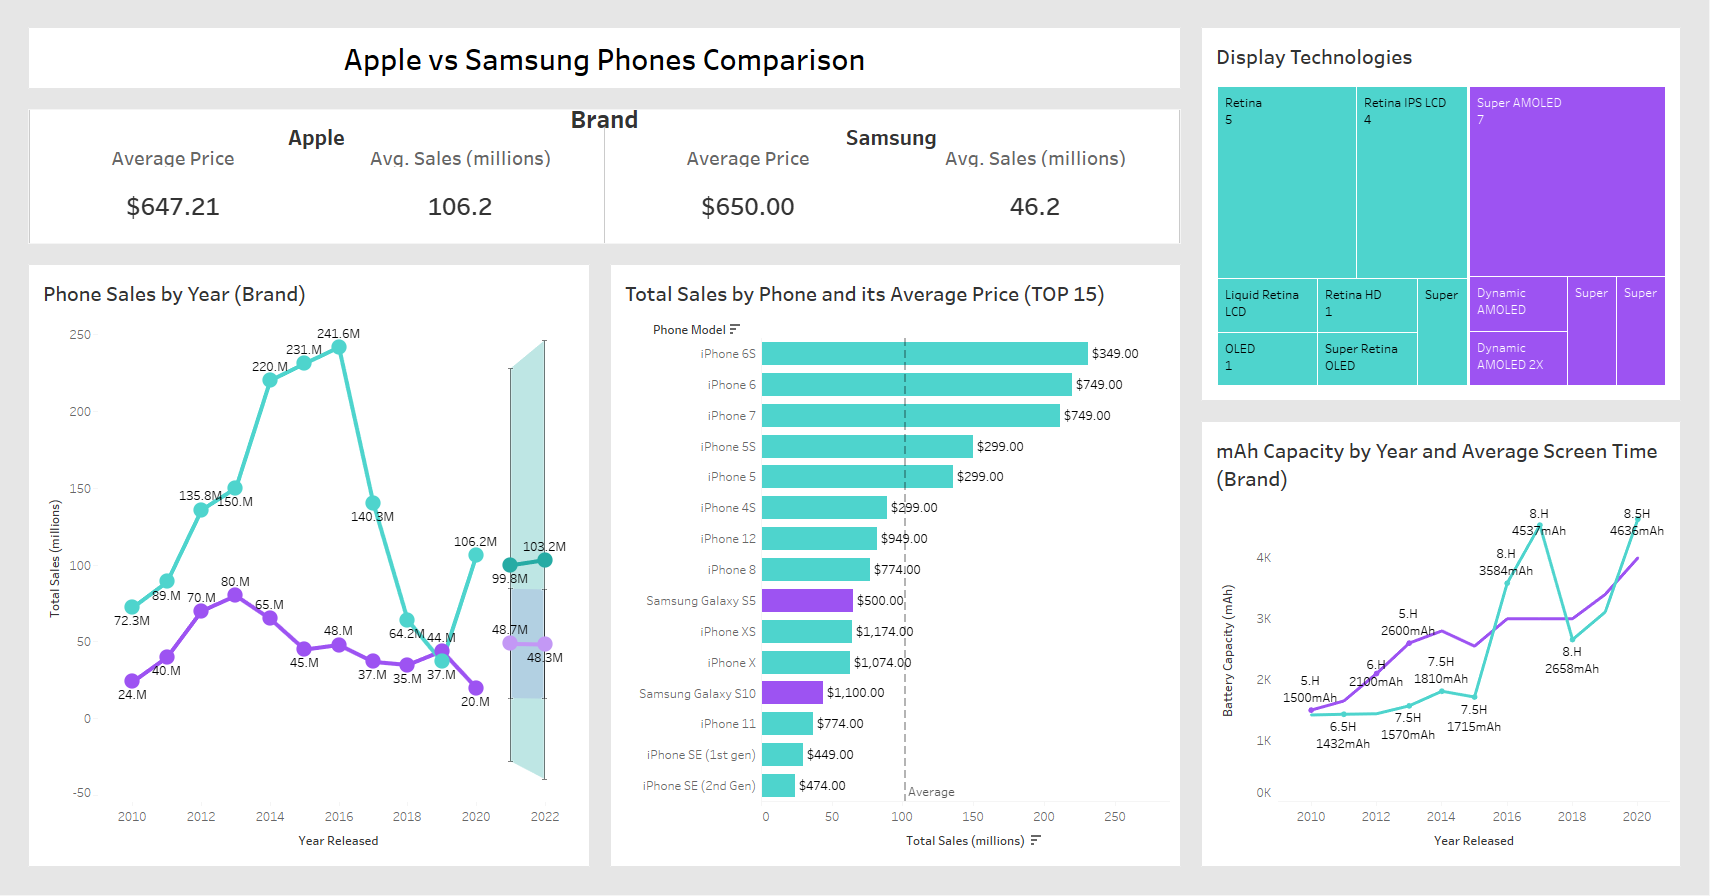

The dashboard page shown, as its layout file describes it:
{"tool":"tableau","page":{"name":"Dashboard","canvas":[1000,1000],"units":"permille","ordinal":0},"visuals":[{"type":"text","box":[10.5,20.1,698.5,91.5]},{"type":"worksheet","title":"Display Technologies","mark":"Automatic","box":[709.1,20.1,280.4,959.8]},{"type":"worksheet","title":"KPIs","mark":"Automatic","cols":["Brand"],"box":[10.5,111.6,698.5,181.9]},{"type":"worksheet","title":"Phone Sales by Year (Brand)","mark":"Automatic","rows":["Total Sales (millions)","Total Sales (millions)"],"cols":["Year Released"],"box":[10.5,293.5,354,686.2]},{"type":"worksheet","title":"Total Sales by Phone (TOP 15)","mark":"Automatic","rows":["Phone Model"],"cols":["Total Sales (millions)"],"box":[364.5,293.5,344.5,686.2]}]}

Visuals, with their boxes on the dashboard's canvas, which has no fixed pixel size, in thousandths of its width and height (x1, y1, x2, y2). These are canvas units, not pixel positions in the 1710x896 screenshot, which may show the page scaled, cropped or inside an application window:
text: select_region(10, 20, 709, 112)
"Display Technologies" worksheet: select_region(709, 20, 990, 980)
"KPIs" worksheet: select_region(10, 112, 709, 294)
"Phone Sales by Year (Brand)" worksheet: select_region(10, 294, 364, 980)
"Total Sales by Phone (TOP 15)" worksheet: select_region(364, 294, 709, 980)
